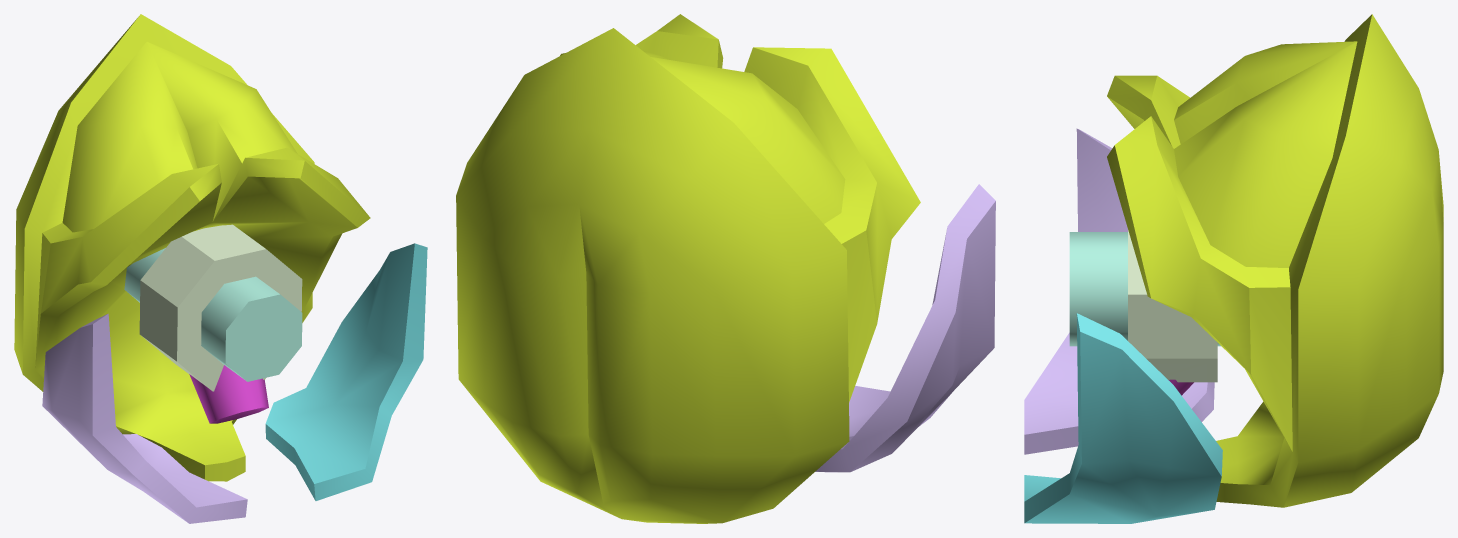
3 views of the same model, side by side, from view 1: azimuth 30°, elevation 25°; view 2: azimuth 150°, elevation 25°; view 3: azimuth 270°, elevation 25° (orthographic). The views are drawn at different scales.
Visible parts, largest first — view 1: Object_17.008, Object_17.004, Object_17, split_parent_3, Object_17.046, Object_17.023; view 2: Object_17.008, Object_17; view 3: Object_17.008, Object_17.004, Object_17, split_parent_3, Object_17.046.
Part boxes in pixels (left/top/right/bottom): Object_17.008: left=14, top=14, right=370, bottom=481; Object_17.004: left=265, top=243, right=427, bottom=500; Object_17: left=42, top=313, right=247, bottom=523; split_parent_3: left=139, top=224, right=302, bottom=391; Object_17.046: left=124, top=248, right=302, bottom=381; Object_17.023: left=189, top=365, right=268, bottom=423; Object_17.008: left=456, top=14, right=920, bottom=523; Object_17: left=815, top=184, right=995, bottom=472; Object_17.008: left=1107, top=14, right=1443, bottom=507; Object_17.004: left=1024, top=313, right=1222, bottom=523; Object_17: left=1024, top=128, right=1214, bottom=454; split_parent_3: left=1128, top=230, right=1217, bottom=382; Object_17.046: left=1069, top=232, right=1220, bottom=346.
Size of the model in its own units: 0.9115 by 1 by 0.7899.
